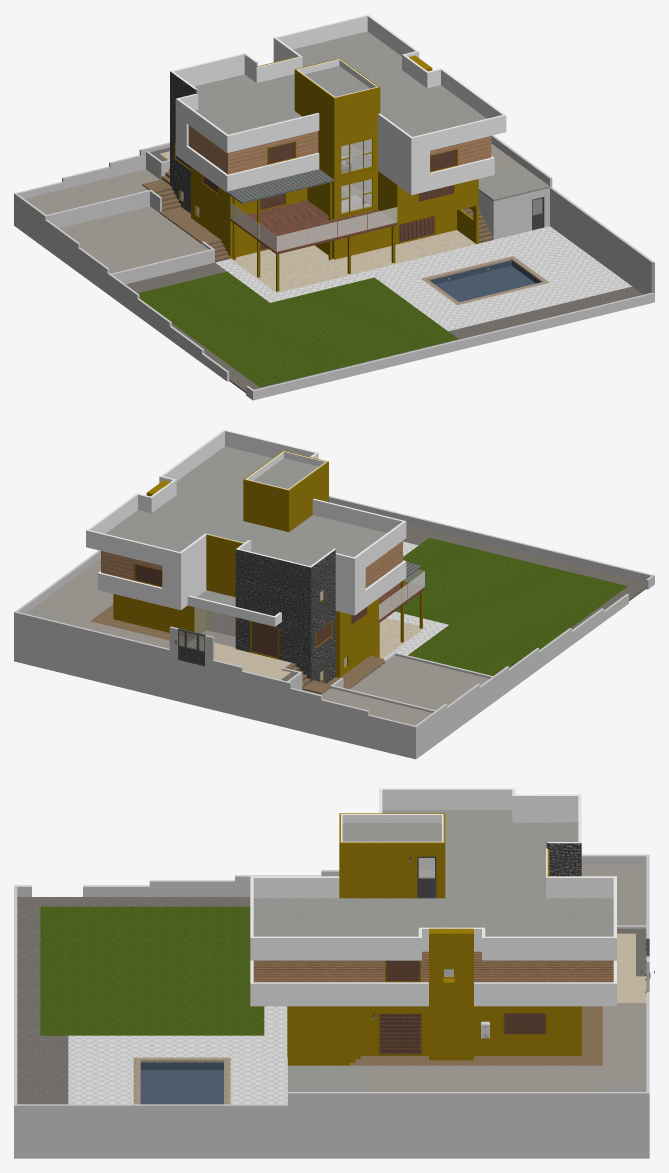
Rendered from demo.glb.
The picture shows the model from 3 angles, top to bottom: view 1: azimuth 30°, elevation 25°; view 2: azimuth 150°, elevation 25°; view 3: azimuth 270°, elevation 25°; orthographic projection. The views are drawn at different scales.
Parts seen in each view (by area): view 1: lvl001room_12_1, lvl004room_30_1, lvl001room_10_1, lvl001room_9_1, lvl001Toprak_1, lvl001room_4_1, lvl002room_14_1, lvl001room_11_1, lvl001wall_18_3, lvl001wall_17_4, lvl001Toprak_1_1, lvl002wall_73_4 (+42 smaller); view 2: lvl001room_12_1, lvl004room_30_1, lvl001wall_19_4, lvl001Toprak_1, lvl002room_29_1, lvl001room_11_1, lvl001wall_17_3, lvl002wall_65_4, lvl002room_17_1, lvl001wall_38_4, lvl004wall_104_3, lvl004wall_172_3 (+46 smaller); view 3: lvl001wall_18_4, lvl001room_12_1, lvl004room_30_1, lvl002room_29_1, lvl001room_11_1, lvl001room_10_1, lvl002wall_178_4, lvl001room_9_1, lvl002wall_79_4, lvl003wall_165_3, lvl002wall_177_4, lvl004wall_120_3 (+32 smaller).
Part boxes in pixels (left/top/right/bottom): lvl001room_12_1: left=138, top=271, right=458, bottom=387; lvl004room_30_1: left=194, top=31, right=486, bottom=136; lvl001room_10_1: left=387, top=242, right=631, bottom=331; lvl001room_9_1: left=215, top=226, right=570, bottom=302; lvl001Toprak_1: left=60, top=206, right=208, bottom=273; lvl001room_4_1: left=230, top=230, right=475, bottom=292; lvl002room_14_1: left=230, top=200, right=397, bottom=254; lvl001room_11_1: left=126, top=262, right=643, bottom=392; lvl001wall_18_3: left=533, top=188, right=653, bottom=294; lvl001wall_17_4: left=253, top=293, right=654, bottom=400; lvl001Toprak_1_1: left=25, top=169, right=159, bottom=214; lvl002wall_73_4: left=397, top=179, right=478, bottom=224; lvl001room_12_1: left=395, top=538, right=627, bottom=675; lvl004room_30_1: left=105, top=446, right=386, bottom=565; lvl001wall_19_4: left=14, top=621, right=284, bottom=727; lvl001Toprak_1: left=350, top=655, right=489, bottom=710; lvl002room_29_1: left=34, top=558, right=184, bottom=648; lvl001room_11_1: left=403, top=523, right=645, bottom=629; lvl001wall_17_3: left=329, top=497, right=650, bottom=581; lvl002wall_65_4: left=235, top=617, right=311, bottom=668; lvl002room_17_1: left=187, top=630, right=291, bottom=679; lvl001wall_38_4: left=321, top=700, right=368, bottom=747; lvl004wall_104_3: left=235, top=549, right=311, bottom=588; lvl004wall_172_3: left=86, top=530, right=180, bottom=570; lvl001wall_18_4: left=14, top=1105, right=649, bottom=1158; lvl001room_12_1: left=40, top=906, right=264, bottom=1035; lvl004room_30_1: left=253, top=810, right=613, bottom=936; lvl002room_29_1: left=365, top=1003, right=646, bottom=1091; lvl001room_11_1: left=17, top=897, right=250, bottom=1104; lvl001room_10_1: left=68, top=1035, right=230, bottom=1104; lvl002wall_178_4: left=287, top=1006, right=475, bottom=1057; lvl001room_9_1: left=230, top=1006, right=287, bottom=1104; lvl002wall_79_4: left=287, top=1093, right=649, bottom=1105; lvl003wall_165_3: left=250, top=983, right=428, bottom=1006; lvl002wall_177_4: left=475, top=1006, right=581, bottom=1055; lvl004wall_120_3: left=339, top=853, right=445, bottom=898.
Bounding box in the file's own units: 2740 × 1100 × 2844.
279 materials, 54 textured.
